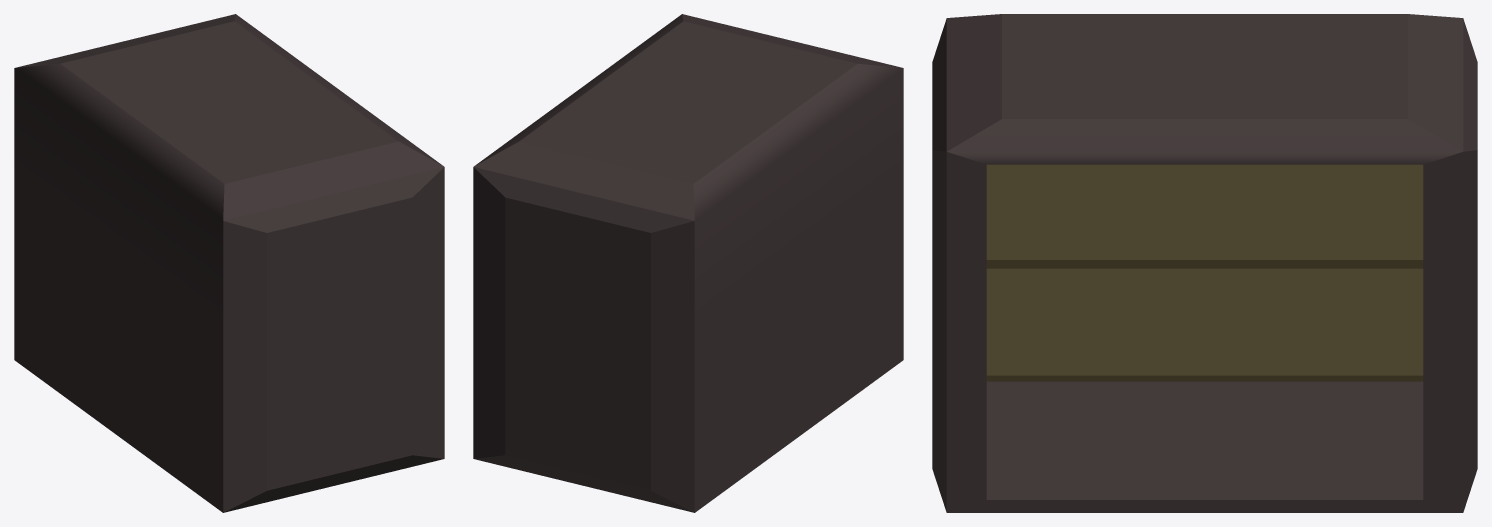
Rendered from Skåp.fbx.
3 renders of one model, left to right at view 1: azimuth 30°, elevation 25°; view 2: azimuth 150°, elevation 25°; view 3: azimuth 270°, elevation 25°, orthographic. The views are drawn at different scales.
Visible parts, largest first — view 1: pCube1; view 2: pCube1; view 3: pCube1.
Boxes of the visible parts, x1=… form: pCube1: x1=14, y1=14, x2=444, y2=512; pCube1: x1=473, y1=14, x2=903, y2=512; pCube1: x1=932, y1=14, x2=1477, y2=512.
Bounding box in the file's own units: 6 × 7.95 × 10.35.
